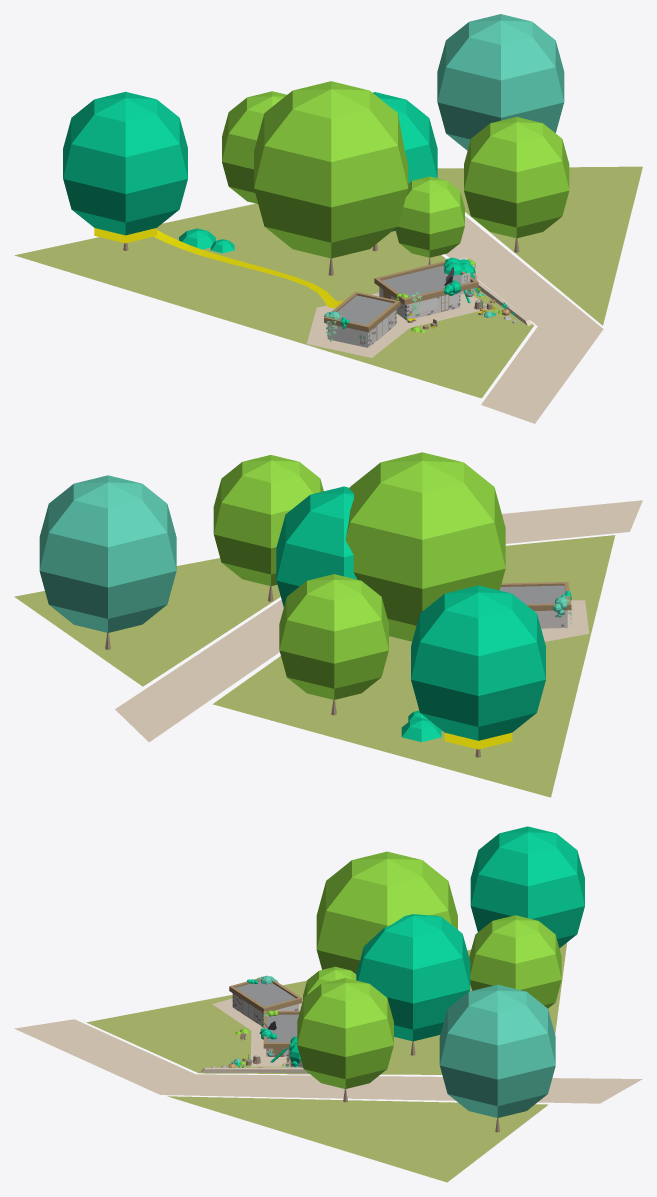
The picture shows the model from 3 angles, top to bottom: view 1: azimuth 30°, elevation 25°; view 2: azimuth 150°, elevation 25°; view 3: azimuth 270°, elevation 25°; orthographic projection. The views are drawn at different scales.
Visible parts, largest first — view 1: Empty_Mesh; view 2: Empty_Mesh; view 3: Empty_Mesh.
Part boxes in pixels (left/top/right/bottom): Empty_Mesh: left=14, top=14, right=642, bottom=423; Empty_Mesh: left=14, top=452, right=642, bottom=797; Empty_Mesh: left=14, top=826, right=642, bottom=1182.
Size of the model in its own units: 2389 by 2526 by 761.
